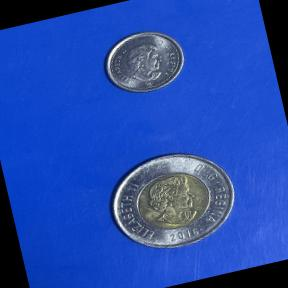coin: (94, 135, 250, 266), (94, 17, 195, 106)
